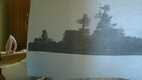tau_muctieu: (29, 10, 142, 58)
